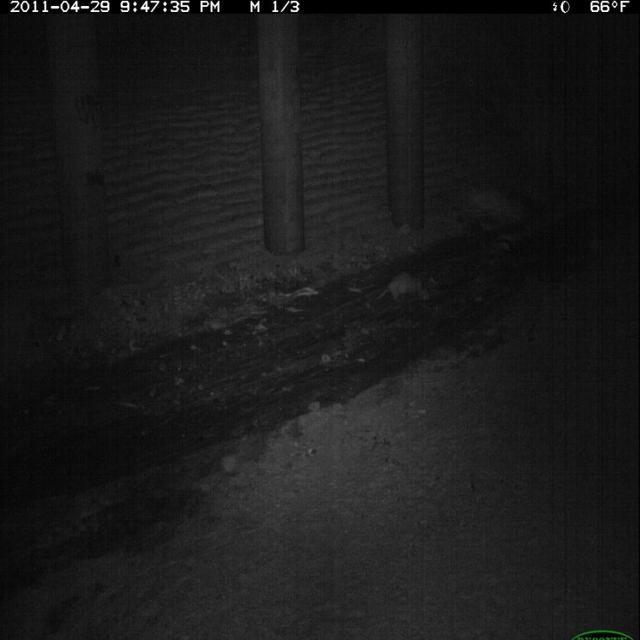opossum: (374, 268, 430, 307)
